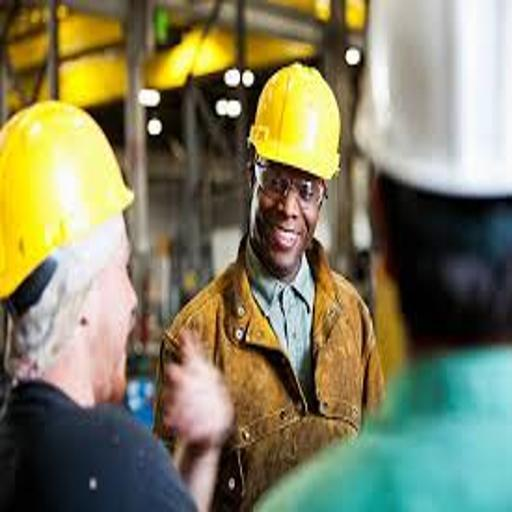Hard_hat: (1, 80, 144, 295), (363, 2, 512, 207), (243, 65, 342, 181)
Humans: (256, 190, 512, 512), (153, 180, 370, 495), (3, 294, 199, 512)
